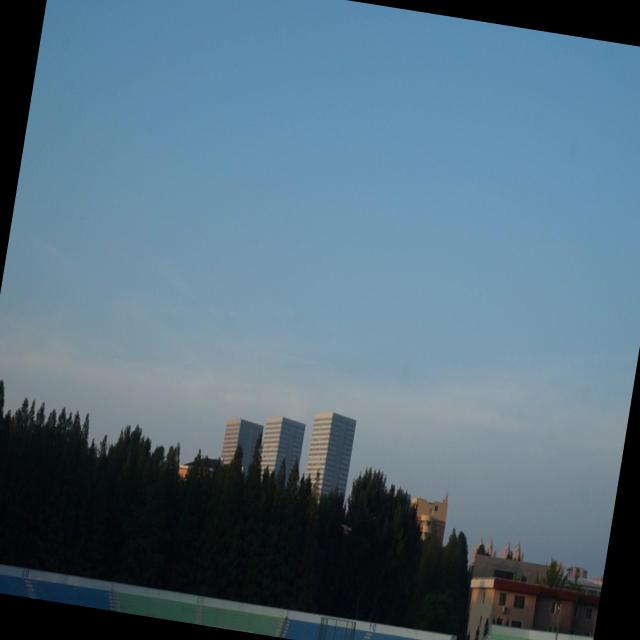drone: (334, 517, 356, 540)
